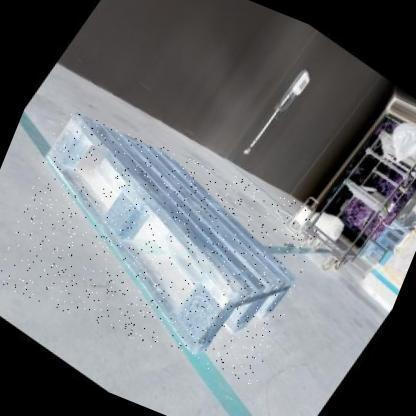pallet: (41, 111, 299, 357)
